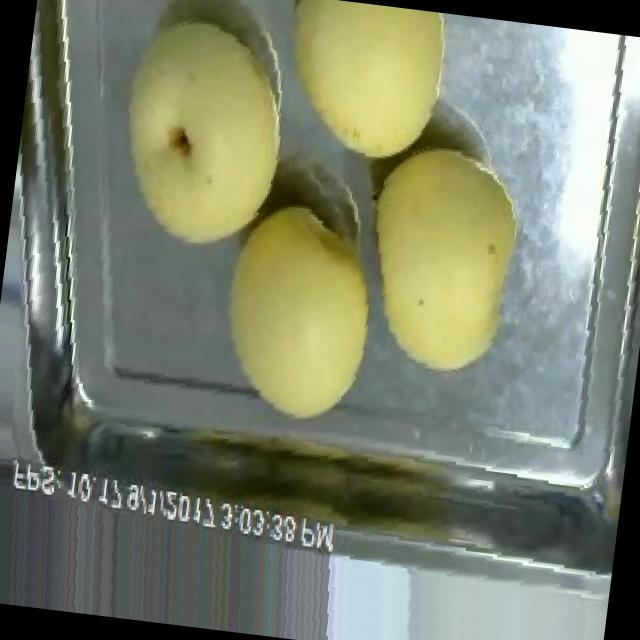Fruit: (87, 0, 319, 271), (197, 181, 397, 443), (342, 128, 538, 390), (253, 0, 462, 182)
